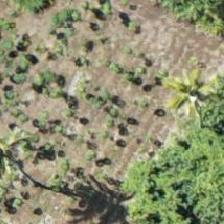coconut_tree: (140, 40, 223, 130), (138, 151, 223, 223), (0, 88, 52, 178)
